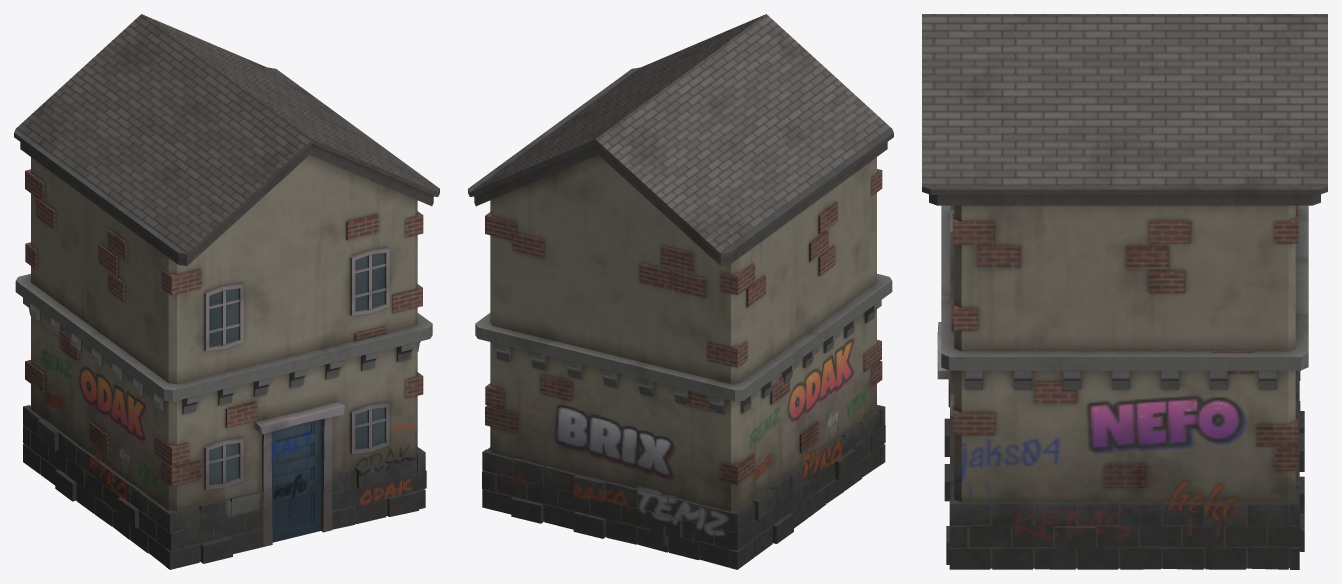
Rendered from building_2Story_GableRoof.glb.
3 renders of one model, left to right at view 1: azimuth 30°, elevation 25°; view 2: azimuth 150°, elevation 25°; view 3: azimuth 270°, elevation 25°, orthographic. The views are drawn at different scales.
Parts seen in each view (by area): view 1: 2Story_GableRoof_low; view 2: 2Story_GableRoof_low; view 3: 2Story_GableRoof_low.
Boxes of the visible parts, x1,y1,x2,y2 form: 2Story_GableRoof_low: [14, 14, 439, 569]; 2Story_GableRoof_low: [468, 14, 893, 569]; 2Story_GableRoof_low: [922, 14, 1327, 569].
Bounding box in the file's own units: 2.16 × 3.13 × 2.38.
2 materials, 2 textured.
